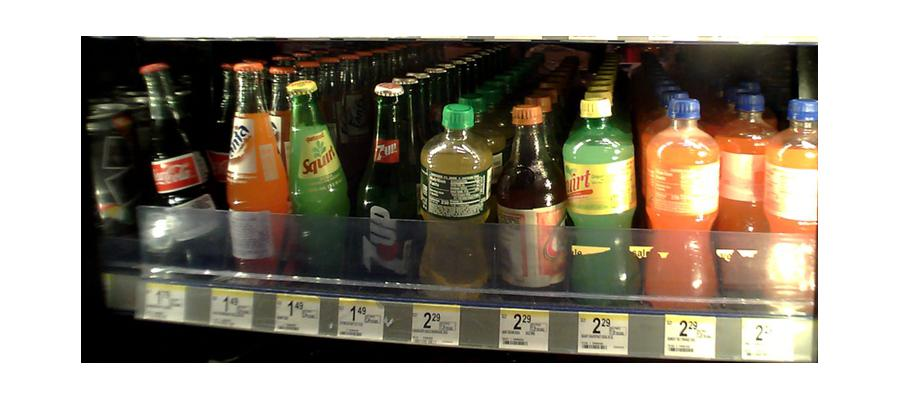bottle: (144, 62, 222, 278), (644, 96, 721, 299), (417, 104, 496, 296), (570, 92, 637, 301), (497, 99, 564, 297), (224, 60, 281, 282), (283, 78, 346, 278), (357, 78, 418, 283), (718, 90, 773, 296), (772, 98, 819, 299)
